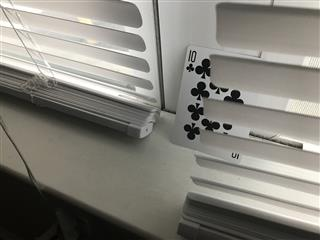TenOfClubs: (170, 45, 264, 163)
